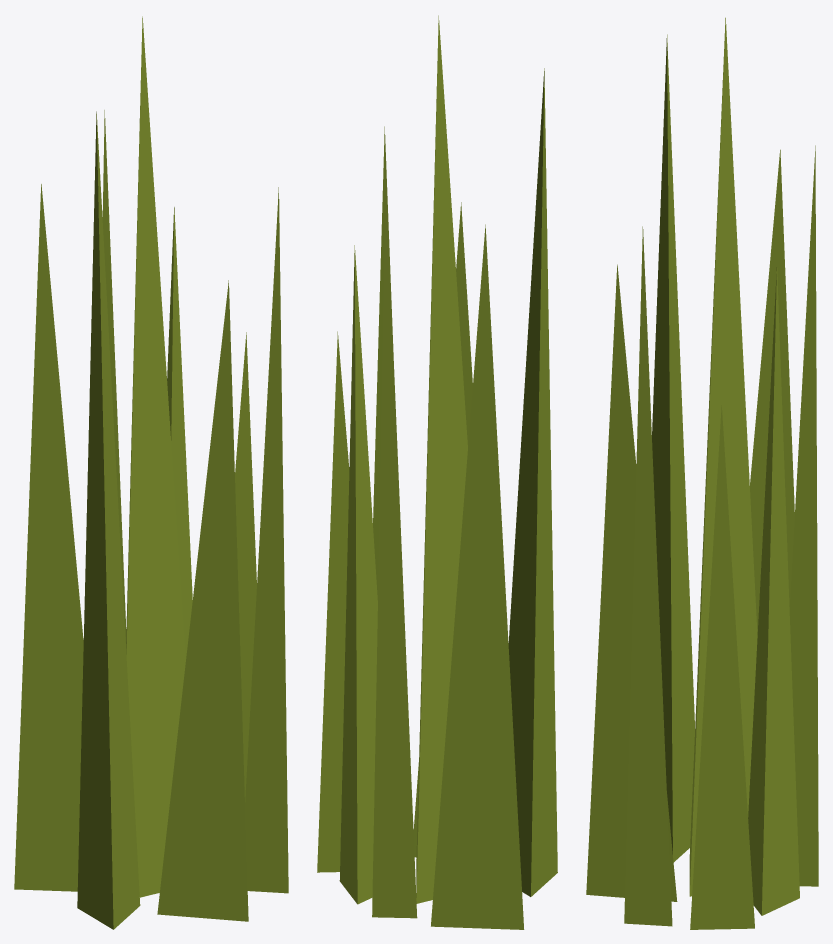
Rendered from Grass_A.fbx.
3 renders of one model, left to right at view 1: azimuth 30°, elevation 25°; view 2: azimuth 150°, elevation 25°; view 3: azimuth 270°, elevation 25°, orthographic.
Visible parts, largest first — view 1: Grass A; view 2: Grass A; view 3: Grass A.
Part boxes in pixels (left/top/right/bottom): Grass A: left=14, top=16, right=288, bottom=929; Grass A: left=317, top=15, right=557, bottom=929; Grass A: left=586, top=17, right=818, bottom=929.
Size of the model in its own units: 26.38 by 102 by 24.78.
